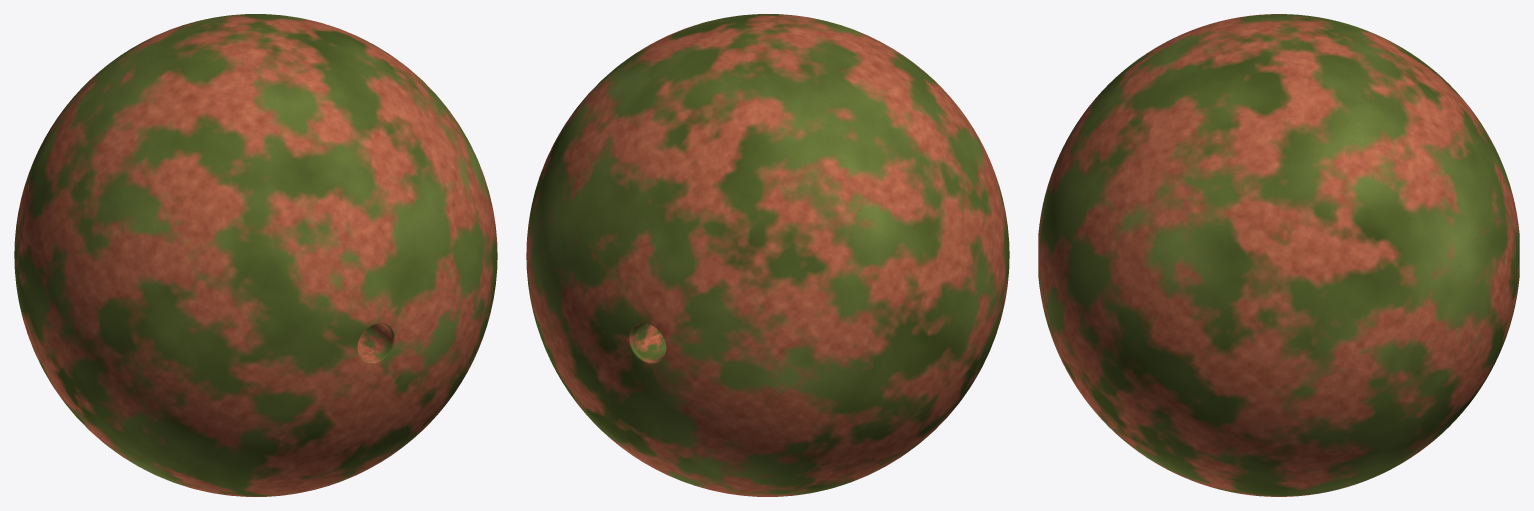
File: unakite-12mm.glb
The picture shows the model from 3 angles, left to right: view 1: azimuth 30°, elevation 25°; view 2: azimuth 150°, elevation 25°; view 3: azimuth 270°, elevation 25°; orthographic projection.
Visible parts, largest first — view 1: unakite.001; view 2: unakite.001; view 3: unakite.001.
Part boxes in pixels (left/top/right/bottom): unakite.001: left=14, top=14, right=497, bottom=496; unakite.001: left=526, top=14, right=1009, bottom=496; unakite.001: left=1038, top=14, right=1519, bottom=496.
Size of the model in its own units: 0.012 by 0.012 by 0.012.
1 material, 1 textured.
